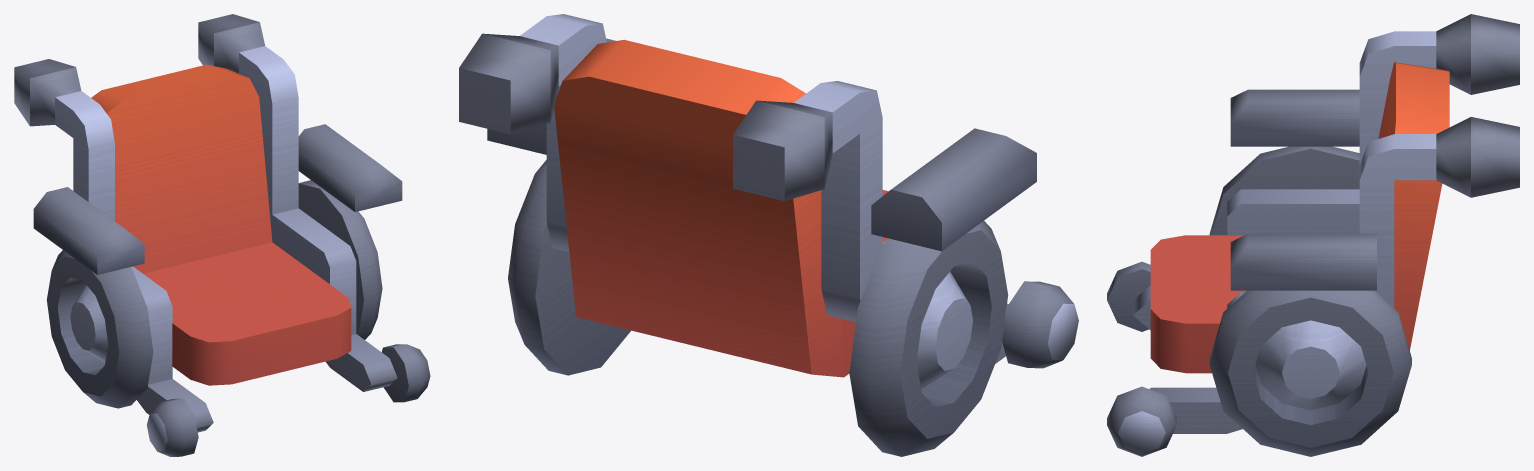
Rendered from wheelchair-deluxe.glb.
The picture shows the model from 3 angles, left to right: view 1: azimuth 30°, elevation 25°; view 2: azimuth 150°, elevation 25°; view 3: azimuth 270°, elevation 25°; orthographic projection. The views are drawn at different scales.
Parts seen in each view (by area): view 1: wheelchair-deluxe; view 2: wheelchair-deluxe; view 3: wheelchair-deluxe.
Boxes of the visible parts, <box> form: wheelchair-deluxe: <box>14,14,430,456</box>; wheelchair-deluxe: <box>459,14,1078,456</box>; wheelchair-deluxe: <box>1107,14,1519,456</box>.
Bounding box in the file's own units: 0.5791 × 0.495 × 0.5924.
1 material, 1 textured.
